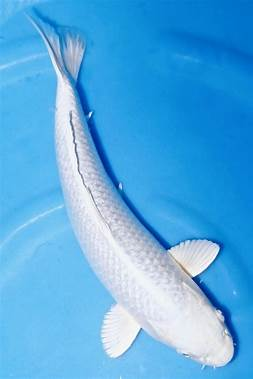white: (22, 7, 237, 368)
